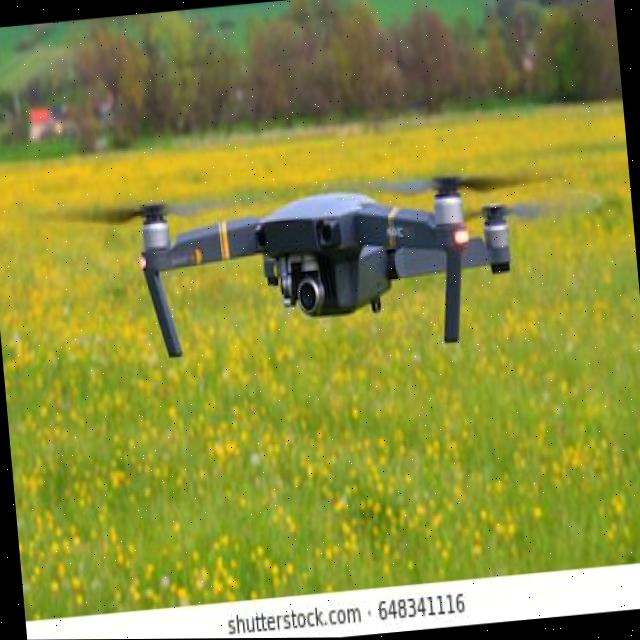drone: (12, 76, 620, 412)
